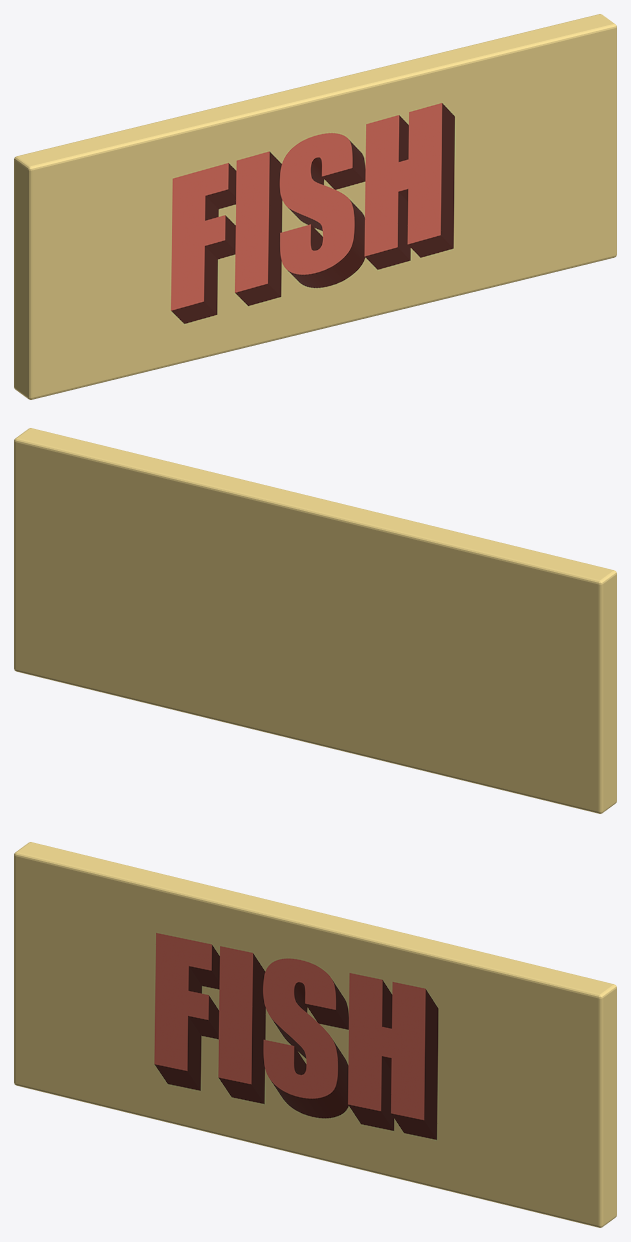
Rendered from fish.fbx.
3 views of the same model, one above another, from view 1: azimuth 30°, elevation 25°; view 2: azimuth 150°, elevation 25°; view 3: azimuth 330°, elevation 25° (orthographic).
Visible parts, largest first — view 1: fish; view 2: fish; view 3: fish.
Part boxes in pixels (box(x1,y1,x2,y2)): fish: box(14, 14, 616, 399); fish: box(14, 428, 616, 813); fish: box(14, 842, 616, 1227).
Bounding box in the file's own units: 102 × 38.8 × 5.
1 material, 1 textured.
